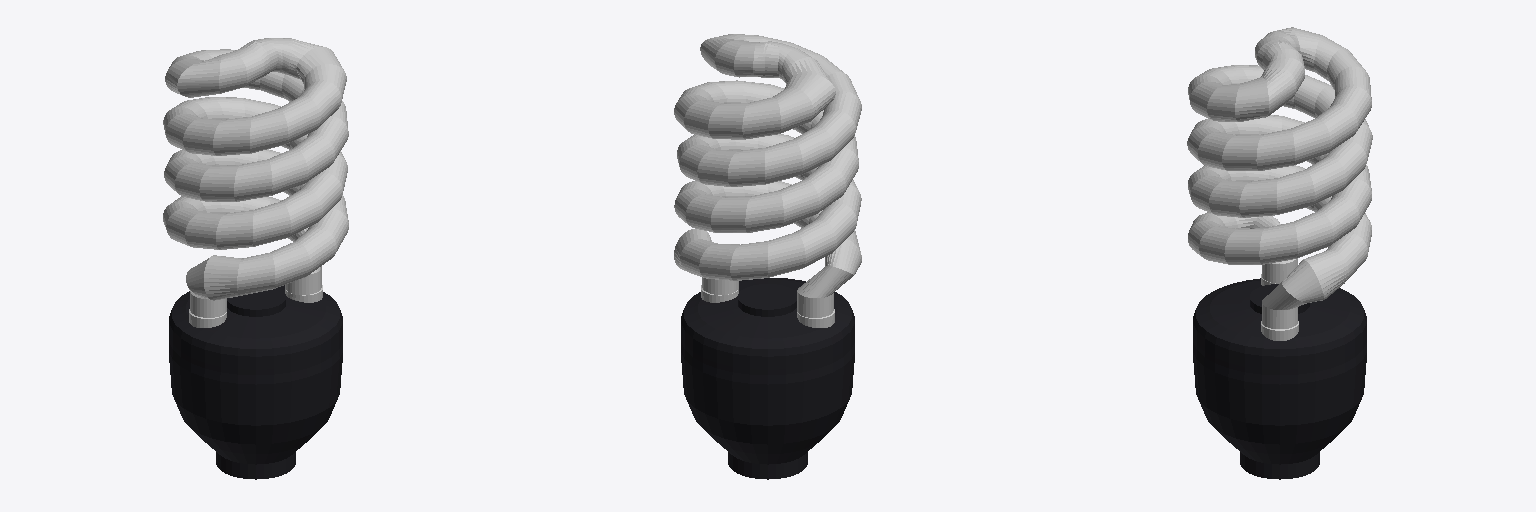
File: foco.obj
The picture shows the model from 3 angles: view 1: azimuth 30°, elevation 25°; view 2: azimuth 150°, elevation 25°; view 3: azimuth 270°, elevation 25°; orthographic projection.
Visible parts, largest first — view 1: Plane_Material, Circle.002_Material.001, Circle_Material.001, Plane.001_Material.001; view 2: Plane_Material, Circle.002_Material.001, Circle_Material.001, Plane.001_Material.001; view 3: Plane_Material, Circle_Material.001, Circle.002_Material.001.
Boxes of the visible parts, box(x1,y1,x2,y2) form: Plane_Material: box(169, 285, 342, 479); Circle.002_Material.001: box(164, 41, 348, 317); Circle_Material.001: box(163, 38, 347, 300); Plane.001_Material.001: box(189, 285, 322, 327); Plane_Material: box(681, 278, 854, 479); Circle.002_Material.001: box(674, 41, 861, 317); Circle_Material.001: box(674, 34, 861, 298); Plane.001_Material.001: box(701, 285, 834, 327); Plane_Material: box(1193, 278, 1366, 479); Circle_Material.001: box(1188, 42, 1372, 328); Circle.002_Material.001: box(1187, 27, 1371, 283).
Bounding box in the file's own units: 1.28 × 3.26 × 1.28.